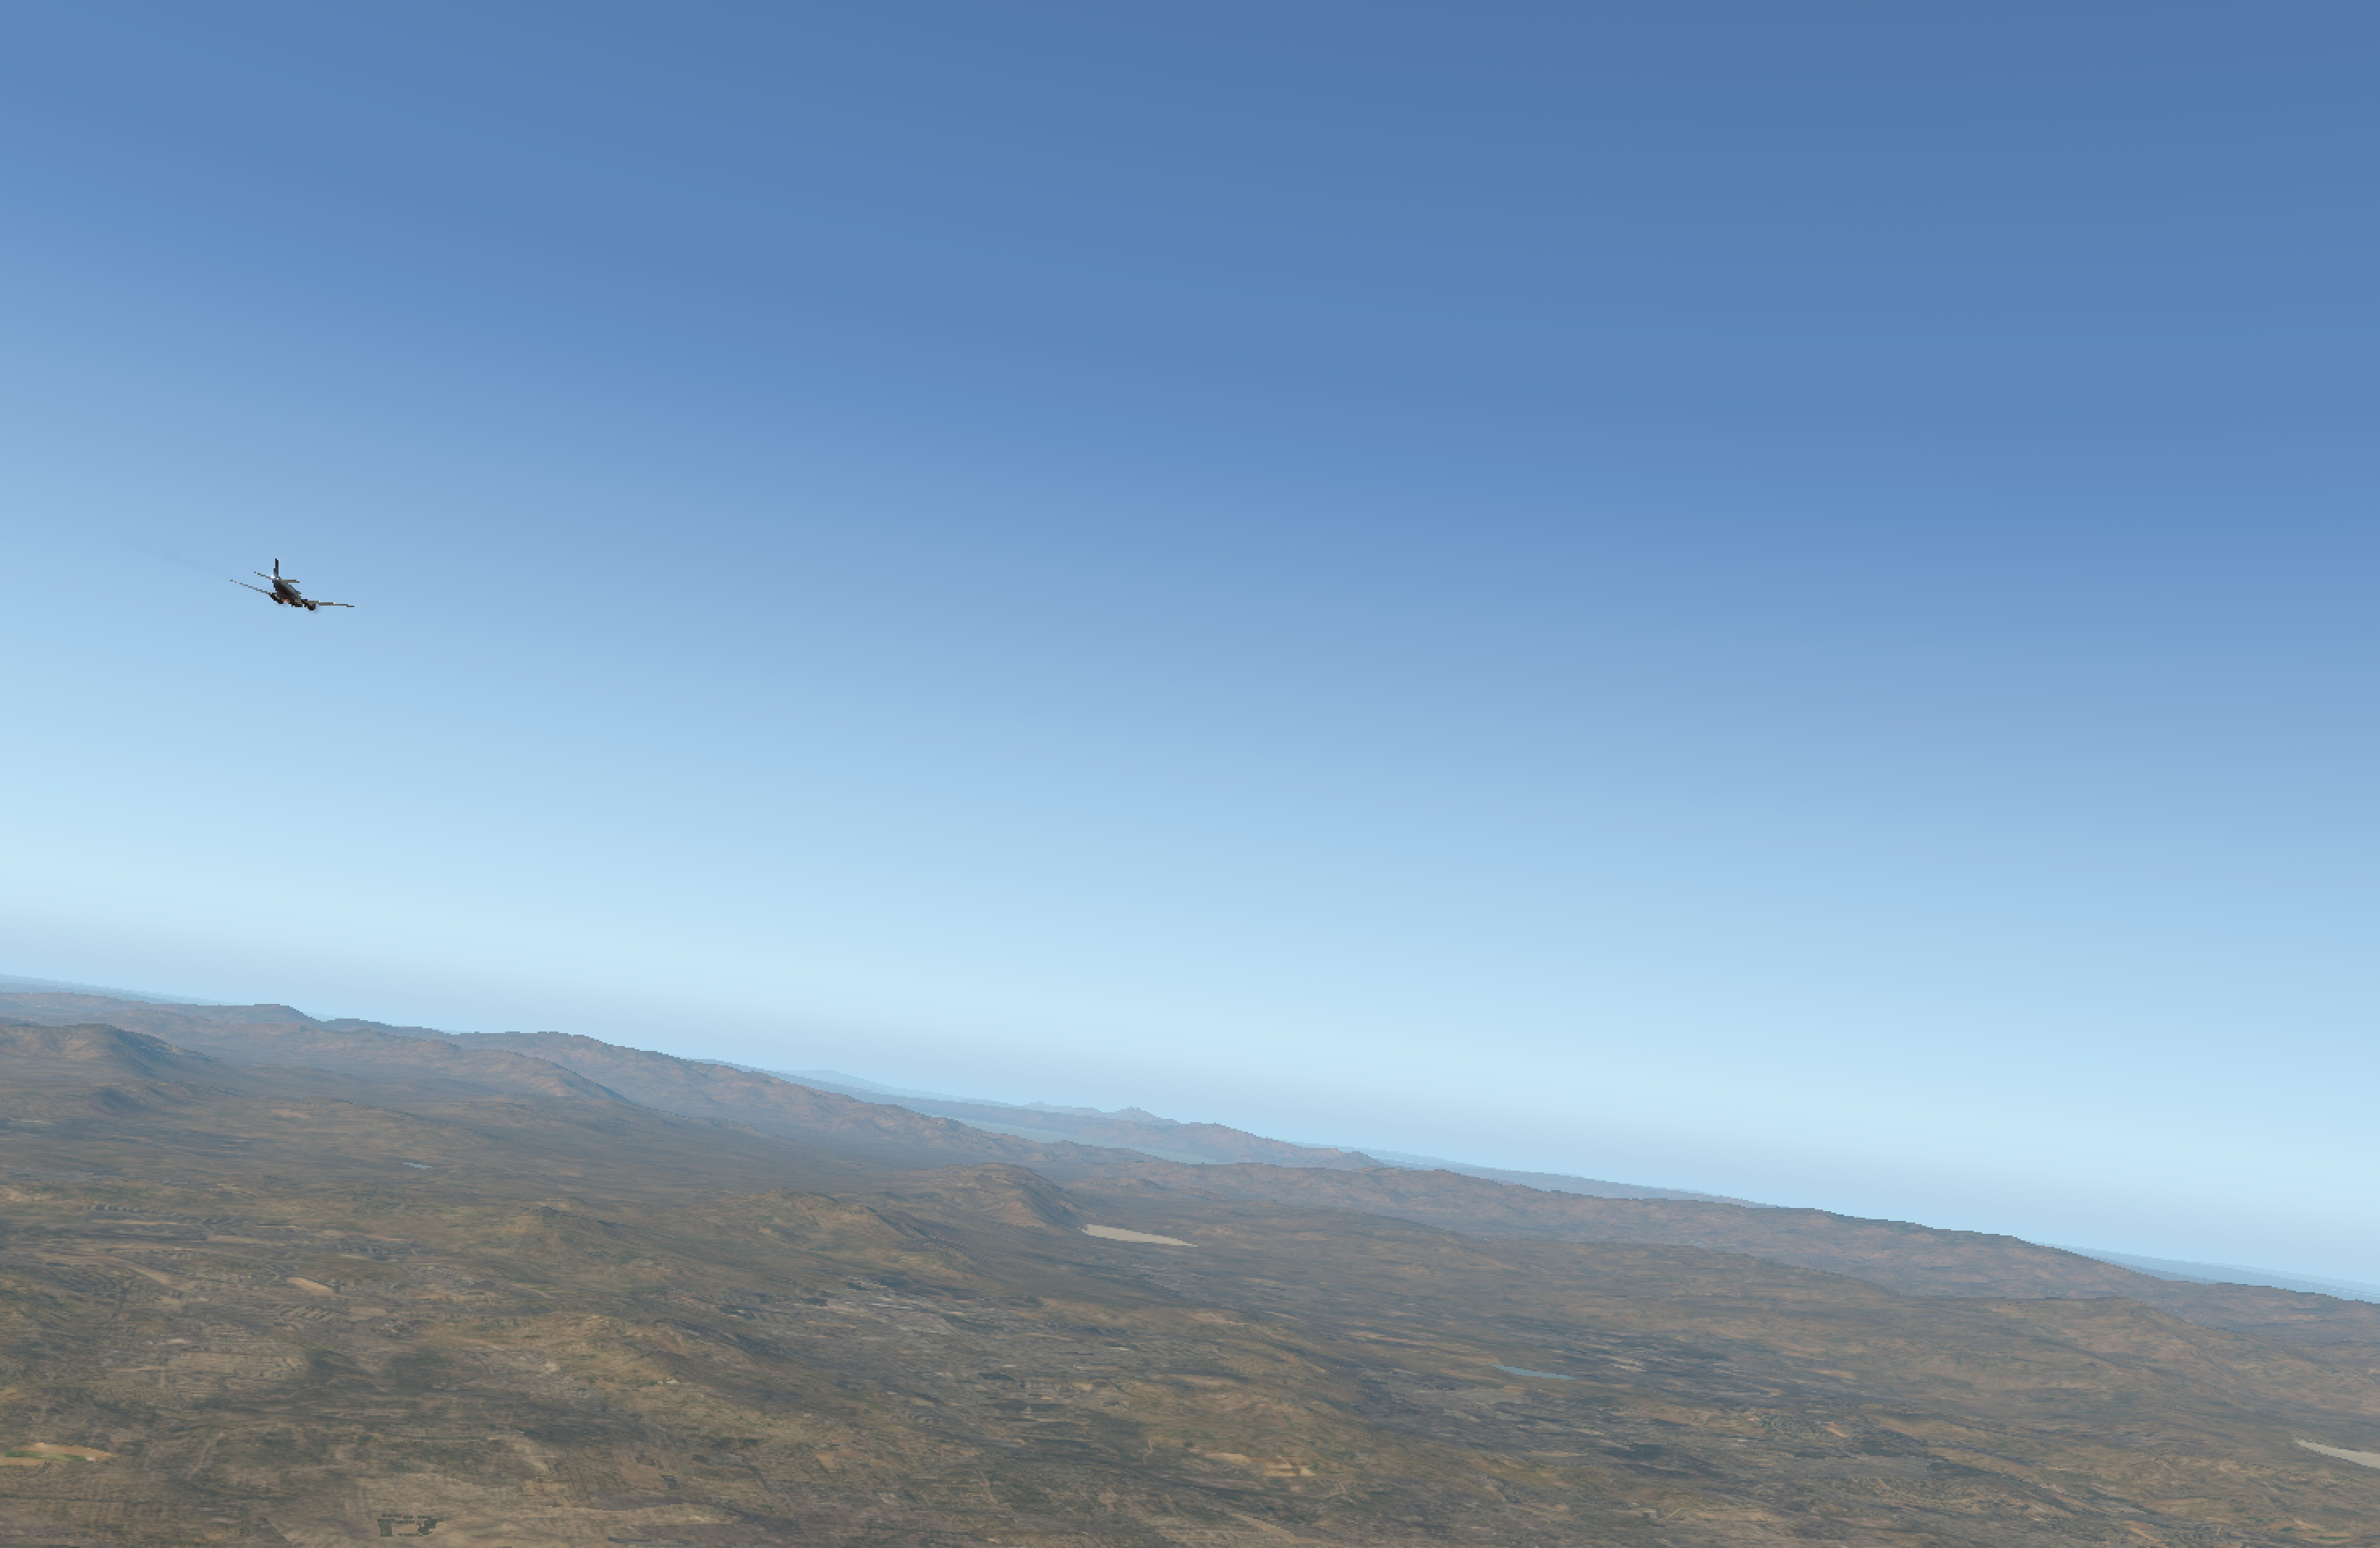aircraft: (232, 580, 349, 623)
